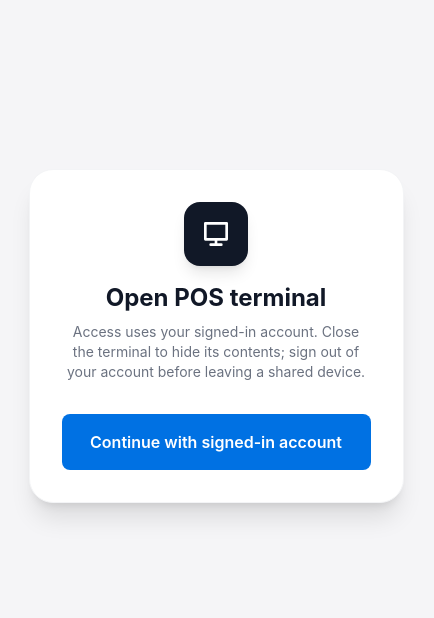
Scenario: POS terminal identity › offers verified account access without pretending a PIN protects the terminal
Check: the heading "Open POS terminal" is shown, box [106,283,326,312]
Check: the text "Access uses your signed-in account. Close the terminal to hide its contents; sign out of your account before leaving a s" is shown, box [67,323,365,380]
Click the button "Continue with signed-in account": (216, 442) [62,414,370,470]
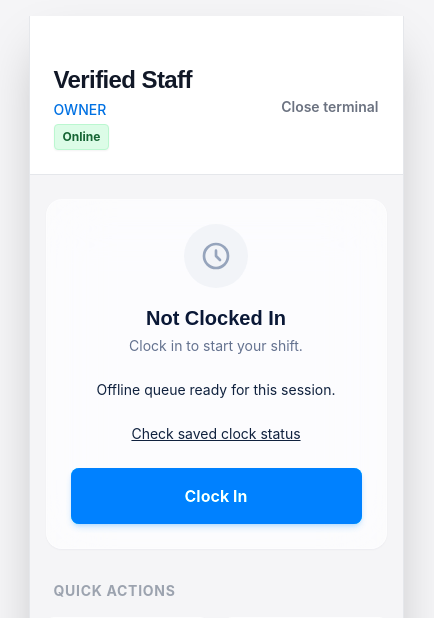
Click the button "Close terminal": (330, 107) [281,85,378,129]
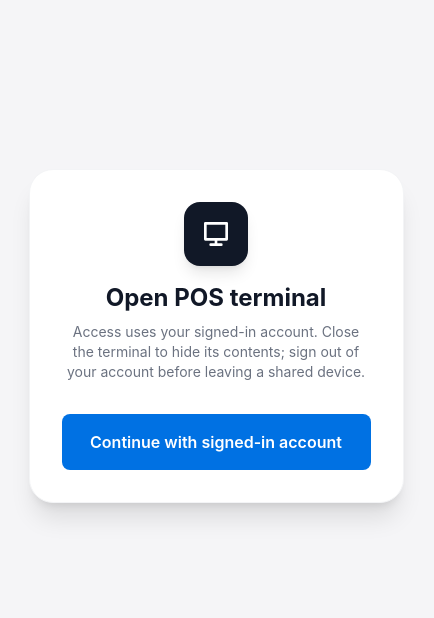
Check: the heading "Open POS terminal" is shown, box [106,283,326,312]
Check: the heading "Verified Staff" is gone
